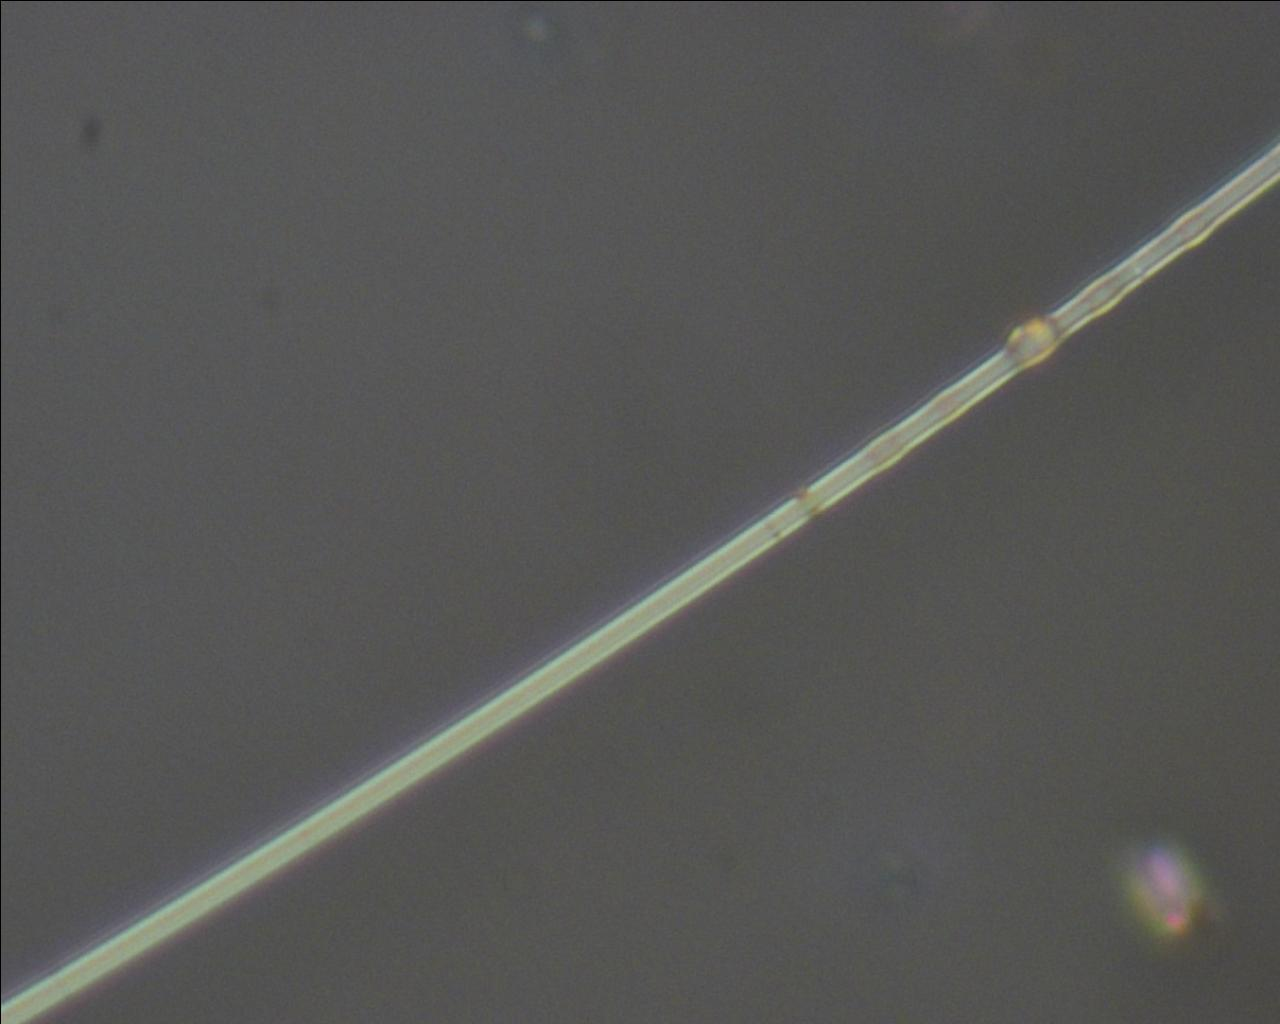fiber: (652, 726, 1088, 1024), (370, 0, 652, 430), (1234, 0, 1280, 430)
